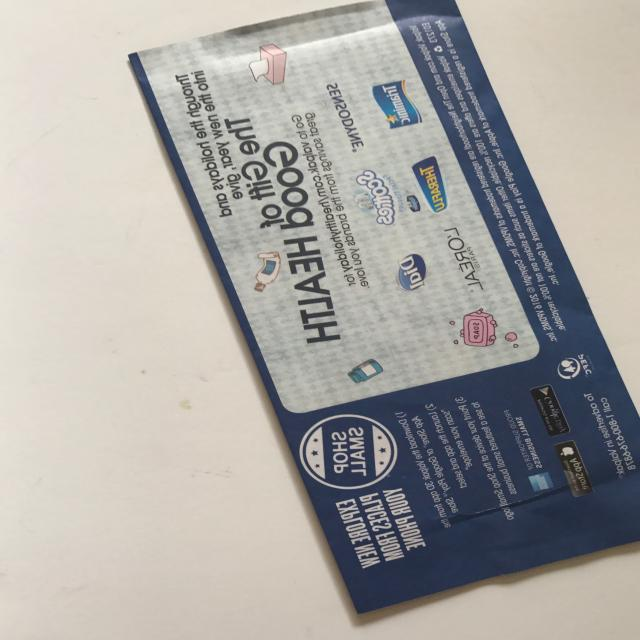paper: (127, 0, 640, 639)
